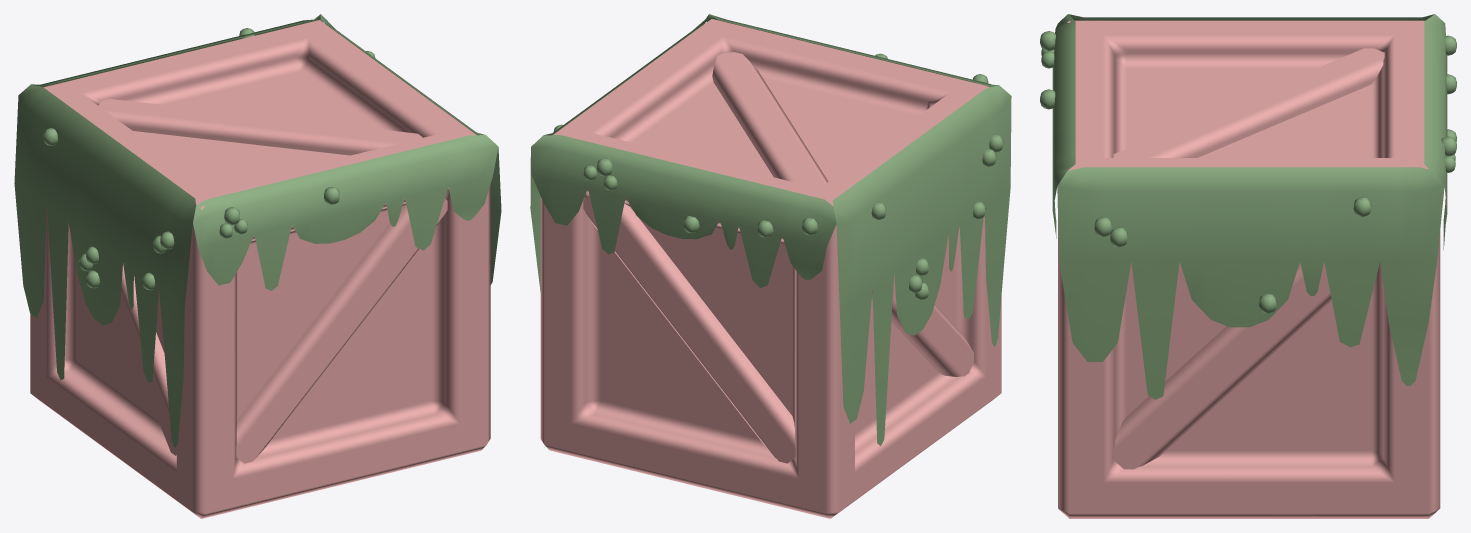
File: Crate_2.fbx
3 renders of one model, left to right at view 1: azimuth 30°, elevation 25°; view 2: azimuth 150°, elevation 25°; view 3: azimuth 270°, elevation 25°, orthographic. The views are drawn at different scales.
Visible parts, largest first — view 1: Crate_2; view 2: Crate_2; view 3: Crate_2.
Part boxes in pixels (bbox=[...]): Crate_2: bbox=[14, 14, 501, 518]; Crate_2: bbox=[530, 14, 1011, 518]; Crate_2: bbox=[1040, 14, 1456, 518].
Bounding box in the file's own units: 54.09 × 49.11 × 52.98.
